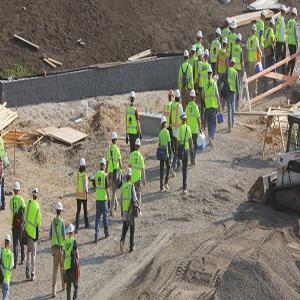red: (169, 90, 175, 102)
white: (4, 235, 12, 250), (14, 182, 21, 196), (57, 203, 64, 217), (69, 225, 76, 239), (33, 187, 39, 202), (81, 157, 87, 172), (101, 158, 107, 173), (127, 167, 133, 182), (131, 91, 137, 106), (176, 89, 182, 103), (181, 114, 188, 126), (112, 133, 118, 146), (136, 138, 142, 151), (162, 117, 168, 130), (191, 90, 197, 103), (184, 50, 190, 63), (216, 28, 222, 41), (232, 20, 238, 33), (292, 8, 298, 21), (198, 31, 204, 43), (198, 48, 204, 60), (237, 34, 243, 46), (252, 25, 258, 37), (270, 18, 276, 30), (281, 6, 287, 18), (205, 49, 210, 63), (262, 11, 268, 22), (224, 38, 229, 50), (231, 59, 237, 69), (226, 18, 231, 30), (192, 45, 197, 56), (209, 68, 213, 79)
